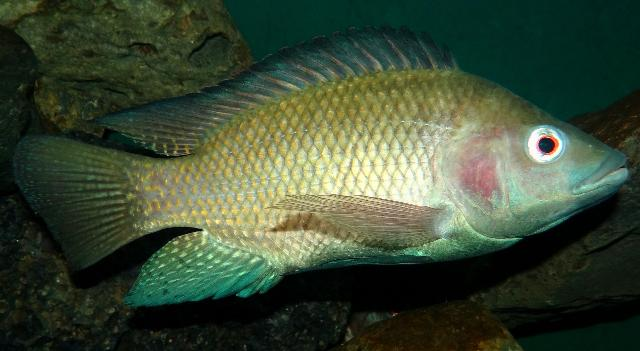Mulut: (514, 112, 640, 232)
Sirip Anal: (110, 218, 290, 318)
Sirip Dada: (255, 171, 475, 261)
Sirip Ekor: (2, 121, 154, 289)
Sirip Punggung: (90, 18, 474, 168)
